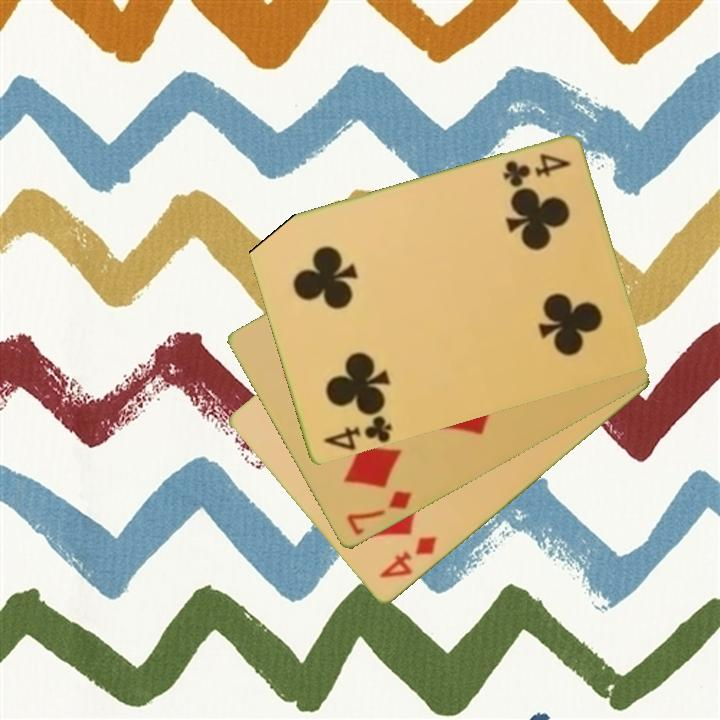4c: (320, 412, 395, 453), (499, 150, 573, 190)
4d: (375, 533, 440, 582)
7d: (343, 487, 415, 540)
